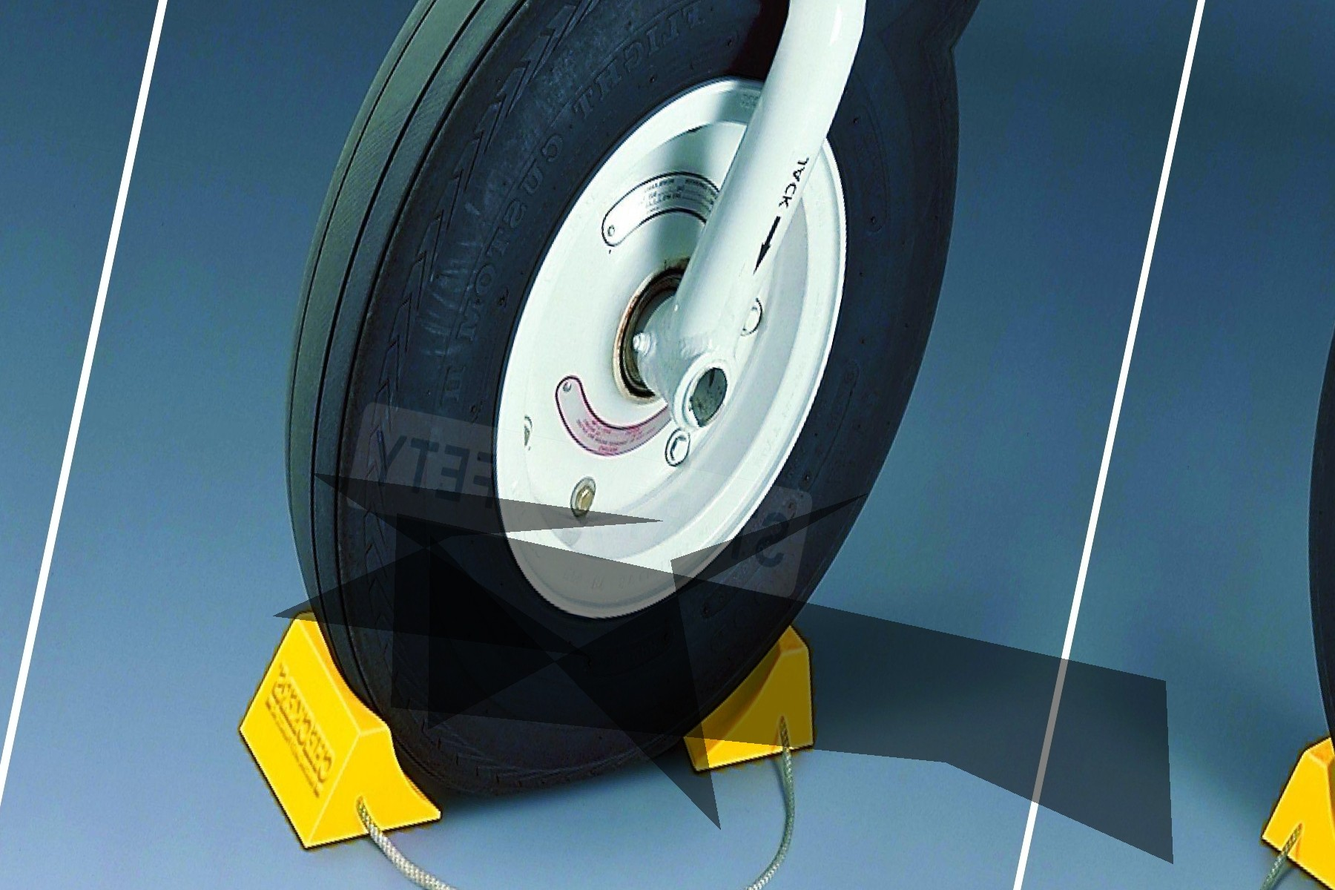chock: (213, 598, 479, 878), (676, 603, 838, 796), (1251, 722, 1335, 890)
wheel: (203, 0, 995, 874)
